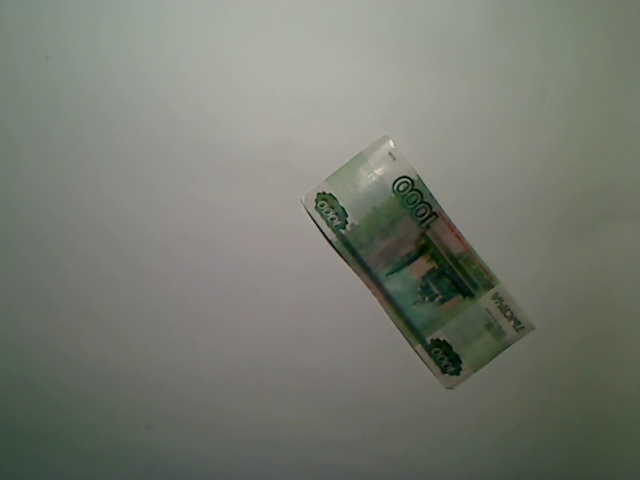banknotes: (296, 129, 543, 396)
